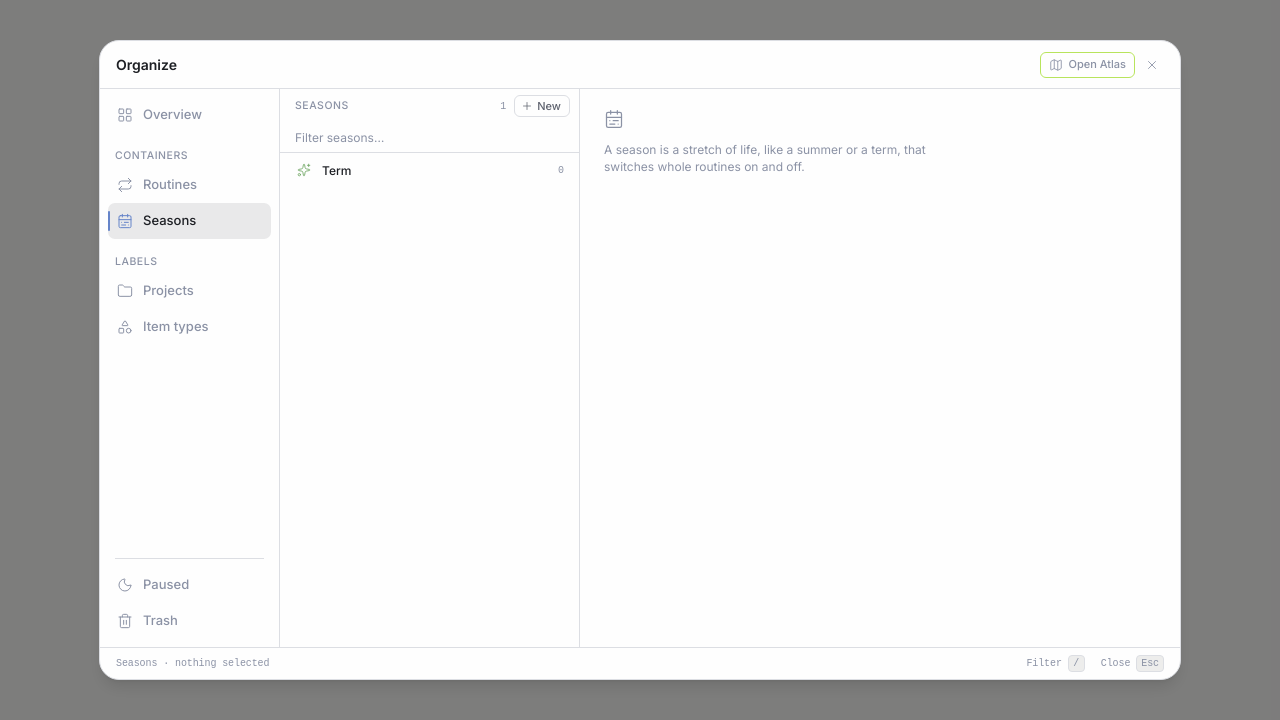
Test case: the seasons section › states what active with {} actually means
The width and height of the screenshot is (1280, 720).
Click the button with test id "season-row" at (304, 170), box [288,153,571,187]
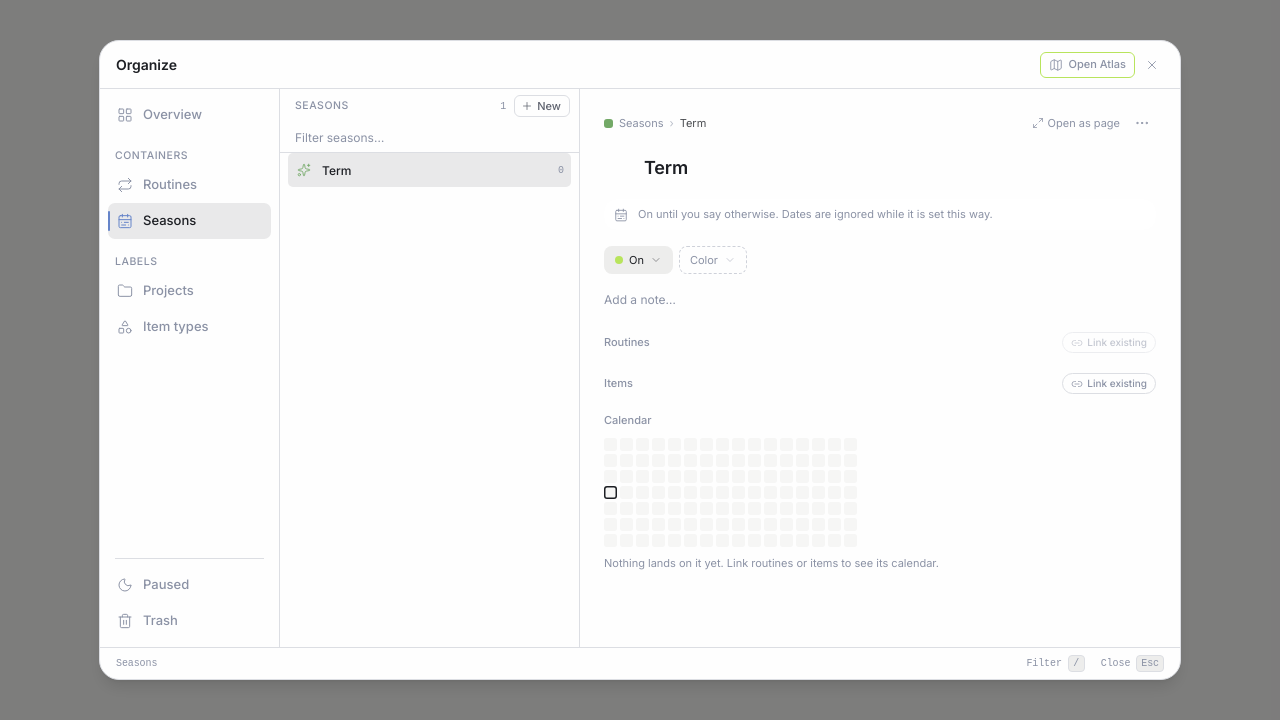
Check: the element with test id "season-state-note" shows "On until you say otherwise", box [638,207,993,221]
